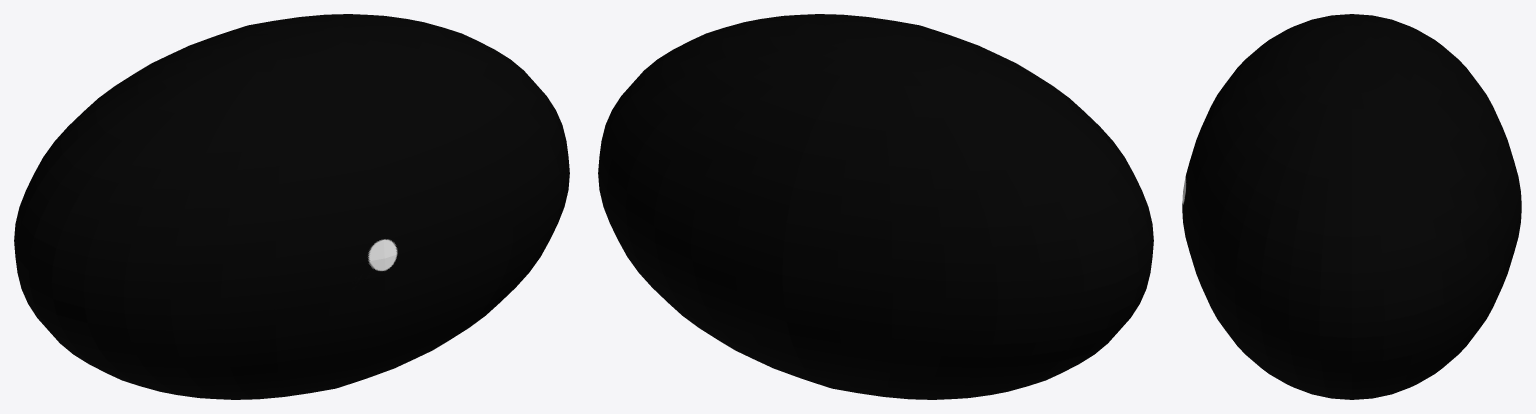
Rendered from eye.fbx.
The picture shows the model from 3 angles, left to right: view 1: azimuth 30°, elevation 25°; view 2: azimuth 150°, elevation 25°; view 3: azimuth 270°, elevation 25°; orthographic projection. The views are drawn at different scales.
Parts seen in each view (by area): view 1: Eye; view 2: Eye; view 3: Eye.
Part boxes in pixels (x1,y1,x2,y2): Eye: [14, 14, 569, 399]; Eye: [598, 14, 1153, 399]; Eye: [1182, 14, 1521, 399].
Bounding box in the file's own units: 0.2423 × 0.149 × 0.149.
1 material, 1 textured.
